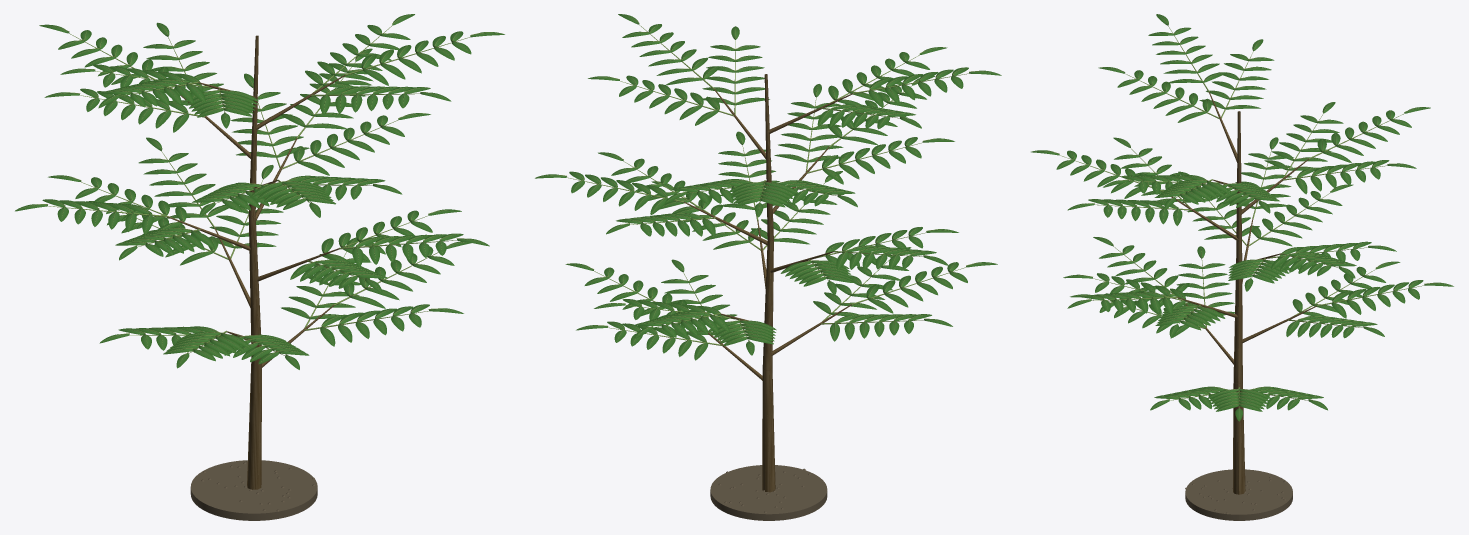
File: neem.glb
3 renders of one model, left to right at view 1: azimuth 30°, elevation 25°; view 2: azimuth 150°, elevation 25°; view 3: azimuth 270°, elevation 25°, orthographic. The views are drawn at different scales.
Visible parts, largest first — view 1: neem; view 2: neem; view 3: neem.
Part boxes in pixels (x1=…): neem: x1=15, y1=14, x2=504, y2=520; neem: x1=535, y1=14, x2=1001, y2=520; neem: x1=1031, y1=14, x2=1453, y2=520.
Size of the model in its own units: 0.8781 by 0.9074 by 0.868.
Materials: 4 (2 with a texture image).
